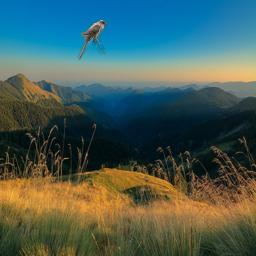Cuckoo: (78, 20, 107, 60)
